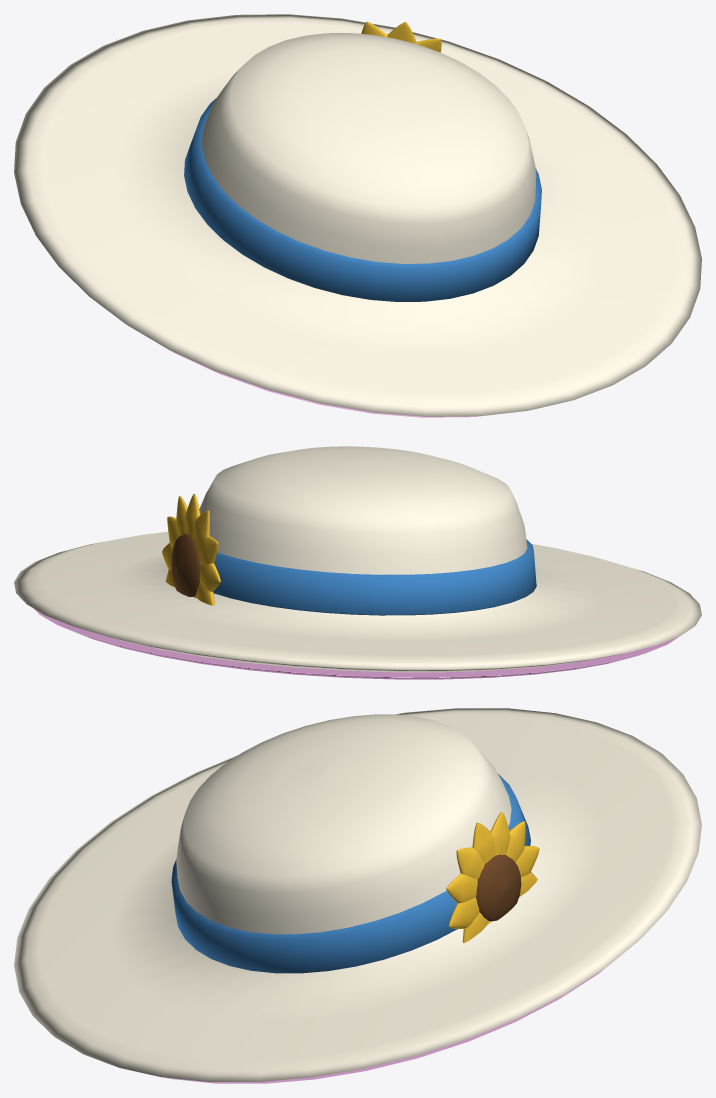
The model's file is sun_hat.glb.
3 views of the same model, one above another, from view 1: azimuth 30°, elevation 25°; view 2: azimuth 150°, elevation 25°; view 3: azimuth 270°, elevation 25° (orthographic). The views are drawn at different scales.
Parts seen in each view (by area): view 1: Accessory; view 2: Accessory; view 3: Accessory.
Boxes of the visible parts, box(x1,y1,x2,y2) form: Accessory: box(14, 14, 701, 417); Accessory: box(14, 446, 701, 679); Accessory: box(14, 708, 701, 1083).
Size of the model in its own units: 0.6479 by 0.2303 by 0.6339.
